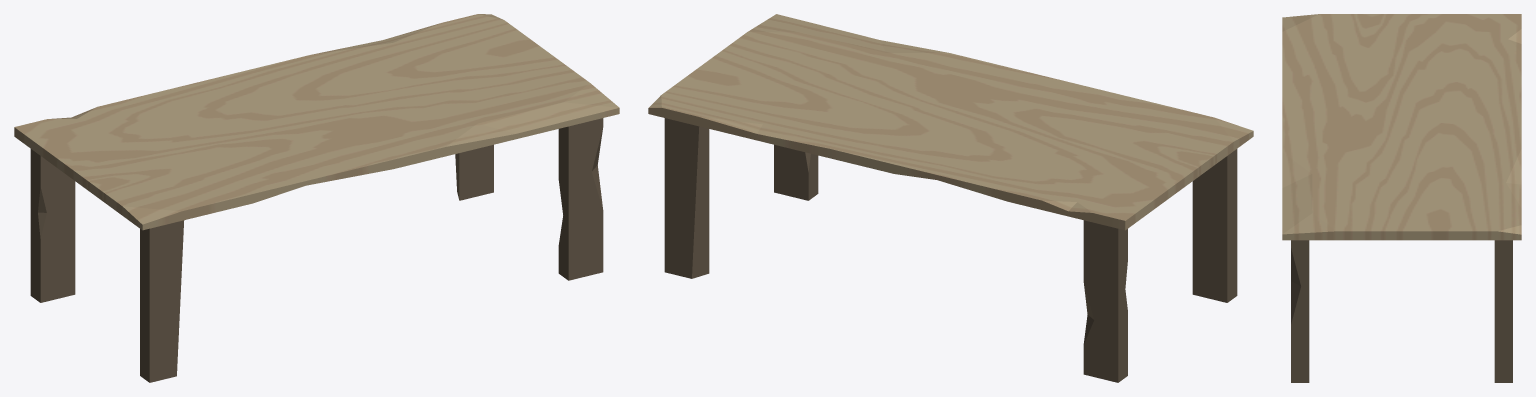
The model's file is SM_Prop_Table_01.glb.
The picture shows the model from 3 angles, left to right: view 1: azimuth 30°, elevation 25°; view 2: azimuth 150°, elevation 25°; view 3: azimuth 270°, elevation 25°; orthographic projection. The views are drawn at different scales.
Parts seen in each view (by area): view 1: SM_Prop_Table_01; view 2: SM_Prop_Table_01; view 3: SM_Prop_Table_01.
Boxes of the visible parts, x1=… form: SM_Prop_Table_01: x1=14, y1=14, x2=619, y2=382; SM_Prop_Table_01: x1=648, y1=14, x2=1253, y2=382; SM_Prop_Table_01: x1=1282, y1=14, x2=1521, y2=382.
Bounding box in the file's own units: 2.05 × 0.6912 × 0.9545.
1 material, 1 textured.
